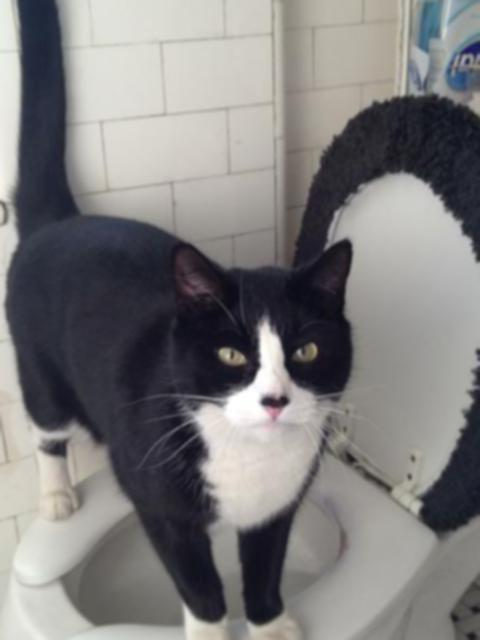Otro Obstaculo: (0, 0, 395, 640)
Sanitario: (0, 124, 480, 640)
